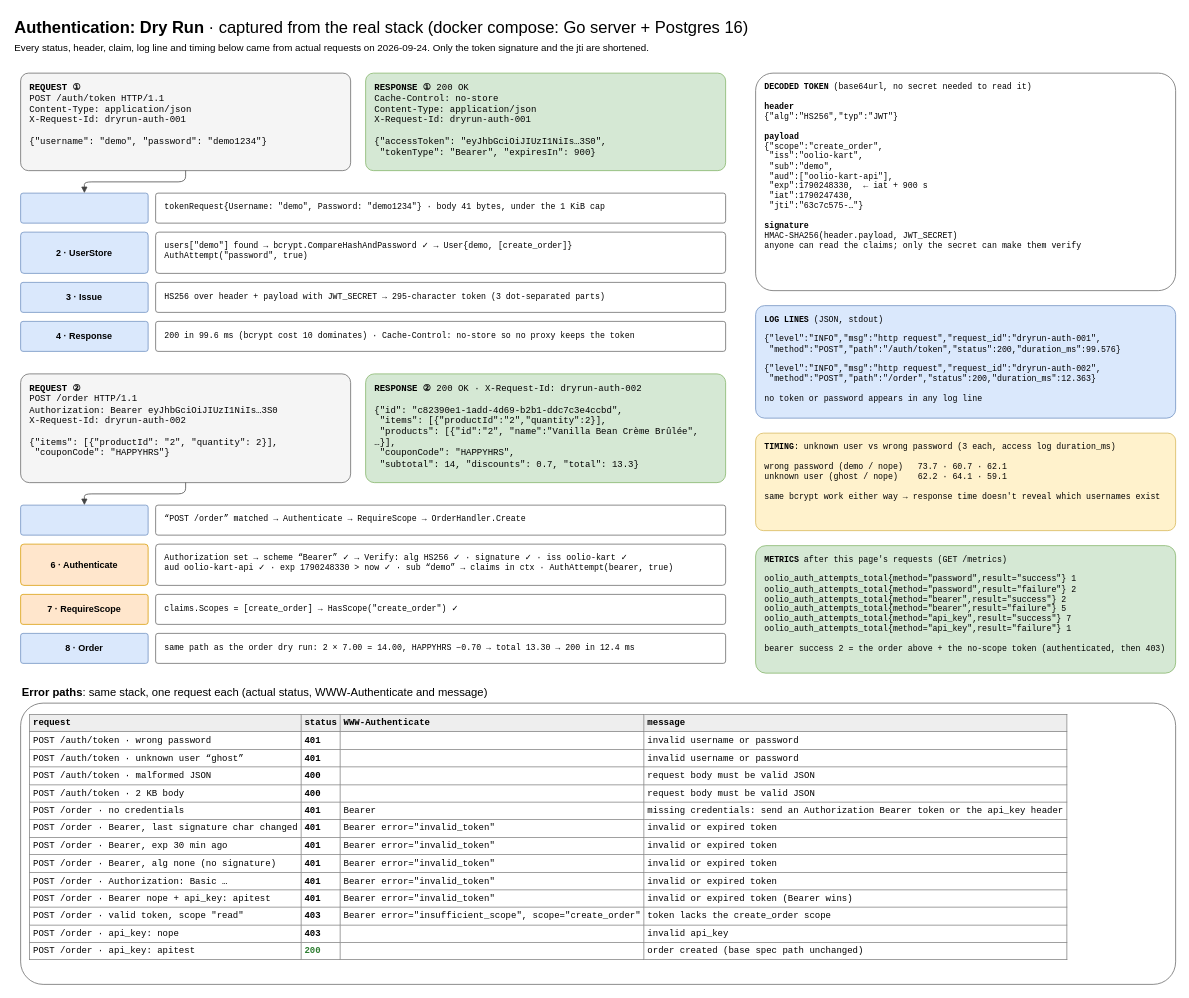
This 1189x998 diagram has some shape labels left out. The shapes that lost their labels are listed below. From the top down, each one's centre as x and y in pixels, then its label:
At point (84, 207): "1 · Decode".
At point (84, 519): "5 · ServeMux".
